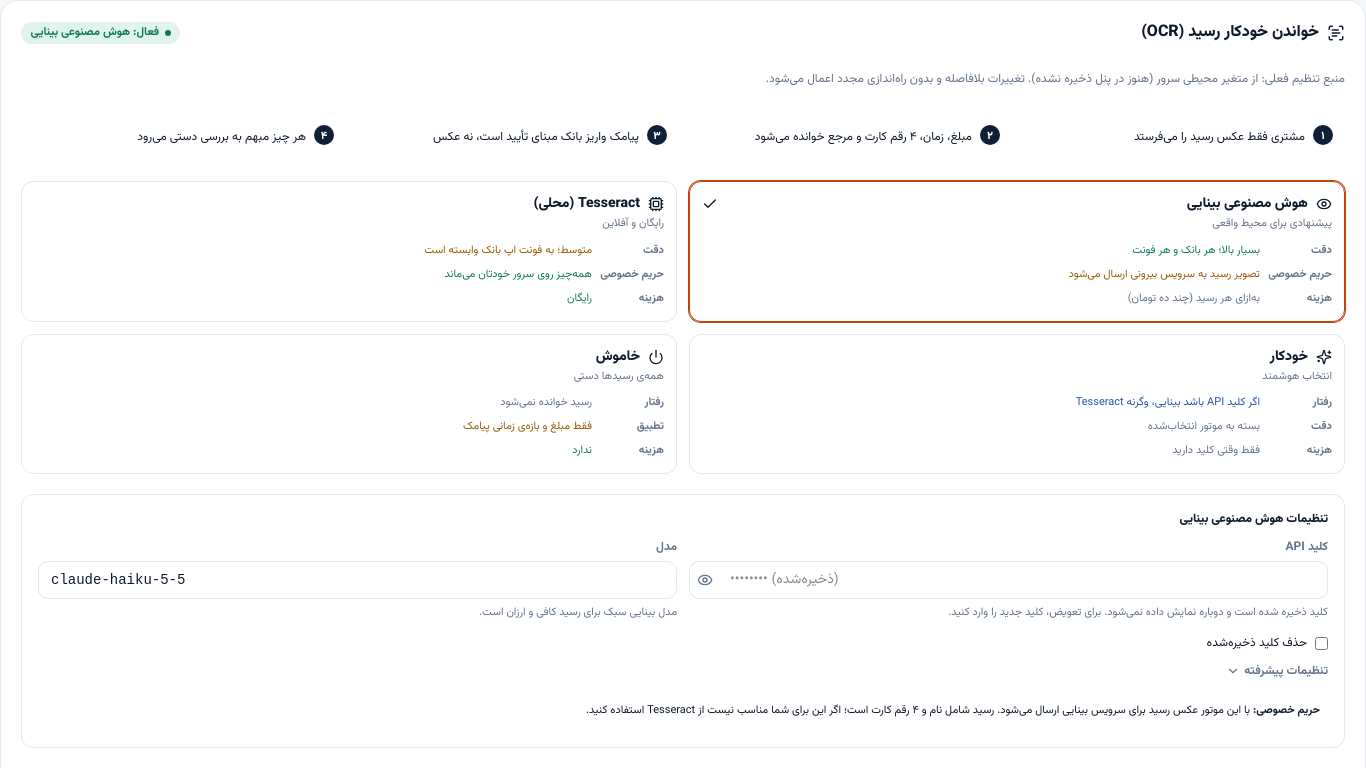
Scenario: receipt OCR settings › only allows the connection test after unsaved changes are saved
Click the radio button labelled "خاموش" at (618, 356), box [21,334,677,474]
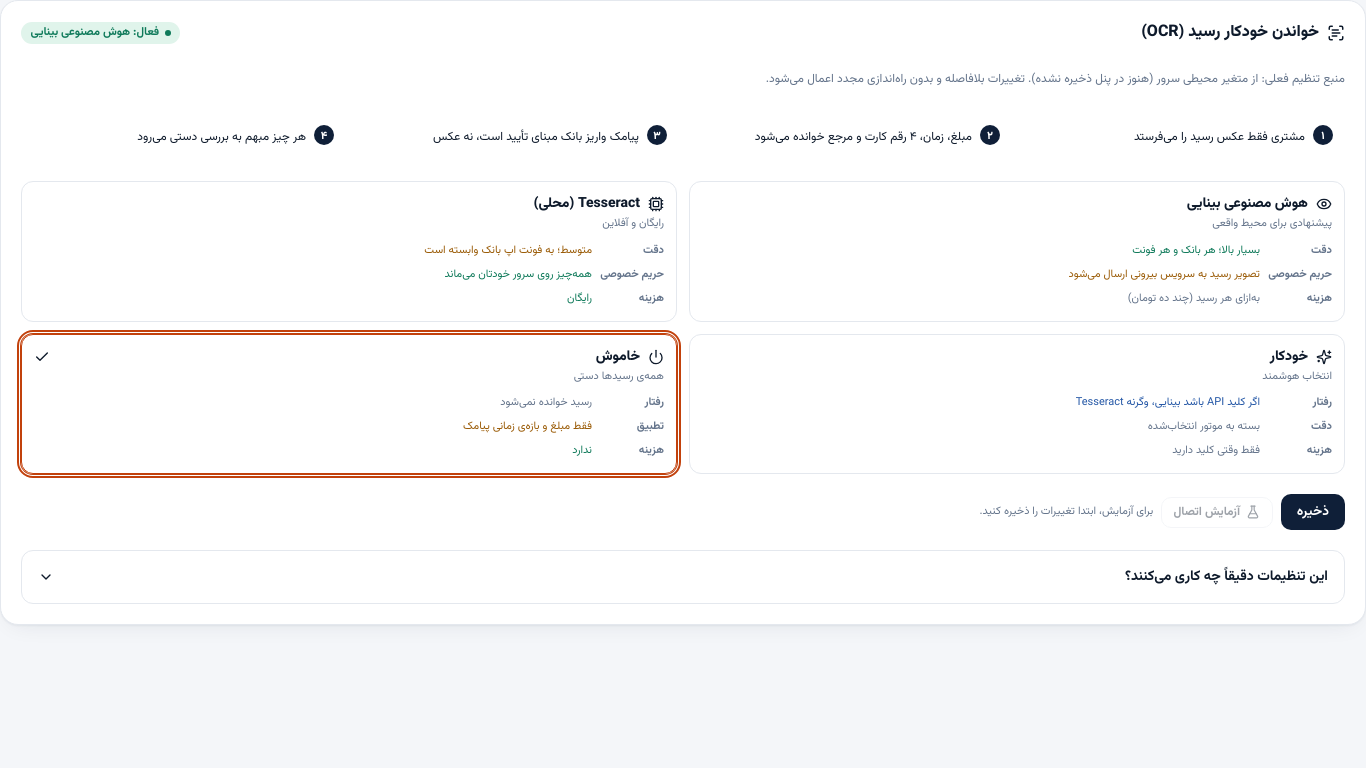
expect the button "آزمایش اتصال" is disabled: met, box [1161,497,1273,528]
